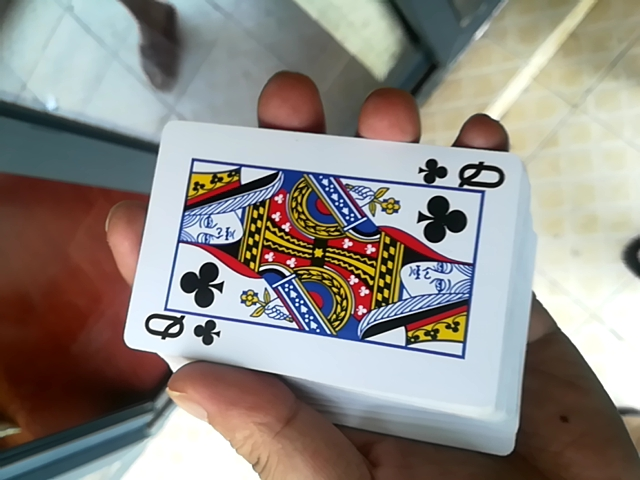mh q: (117, 122, 521, 419)
